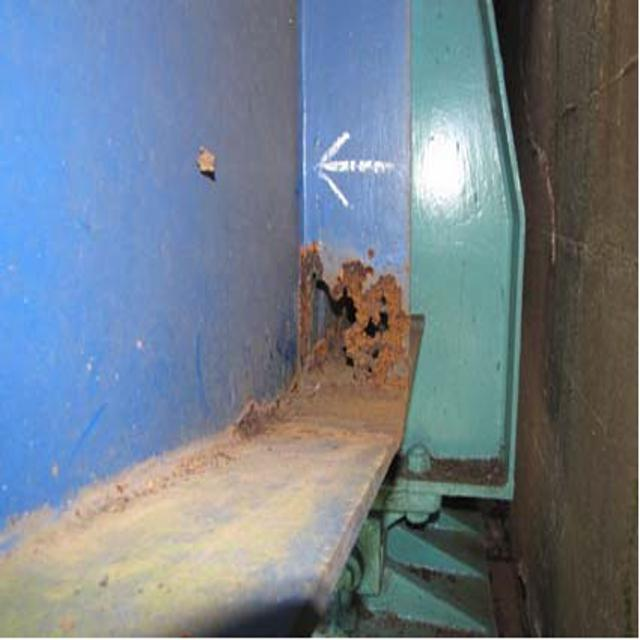corrosion: (276, 247, 413, 437)
